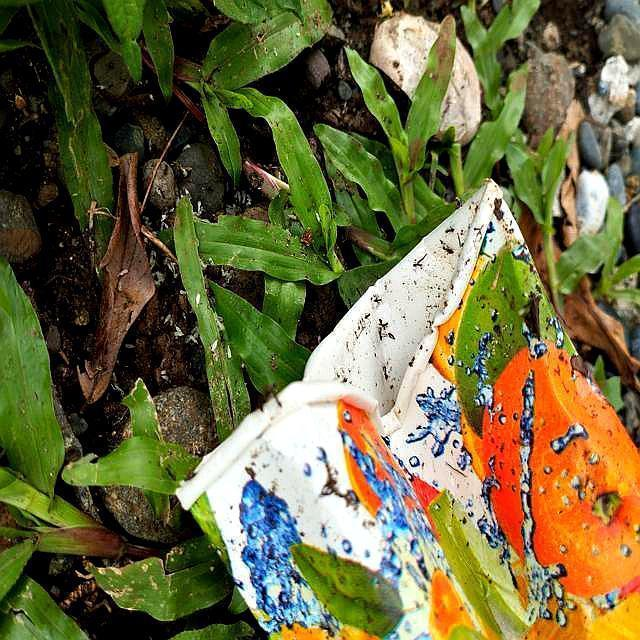Biodegradable: (181, 183, 640, 640)
